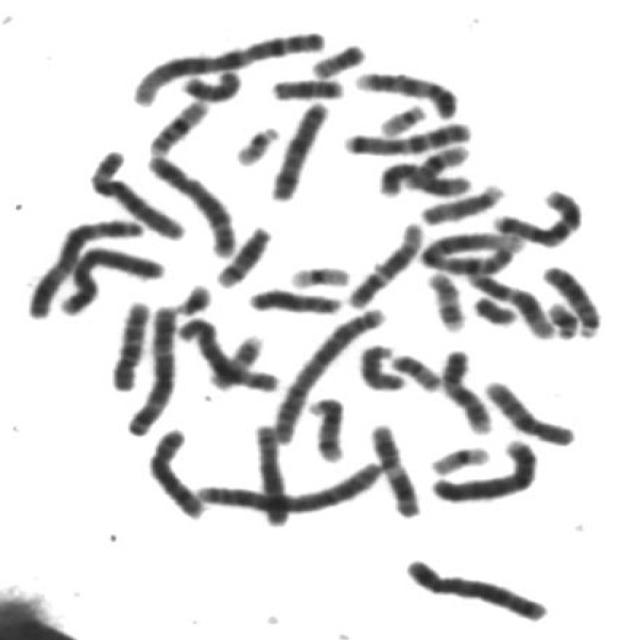A1: (123, 22, 330, 108), (414, 222, 529, 276)
A2: (265, 300, 392, 446), (188, 452, 388, 517)
A3: (21, 212, 150, 320), (120, 296, 184, 437)
B4: (53, 239, 169, 317), (424, 430, 544, 505)
B5: (398, 550, 554, 624), (140, 148, 242, 260)
C10: (476, 372, 582, 448), (103, 291, 156, 393)
C11: (363, 415, 426, 520), (373, 155, 477, 199)
C12: (341, 214, 429, 311), (459, 262, 558, 340)
C6: (82, 141, 190, 241), (171, 318, 284, 401)
C7: (487, 180, 587, 250), (336, 112, 476, 157)
C8: (141, 420, 210, 521), (248, 416, 294, 530)
C9: (349, 63, 462, 120), (434, 341, 498, 435)
D13: (536, 257, 608, 340), (242, 280, 347, 316)
D14: (210, 218, 277, 288), (302, 390, 351, 464)
D15: (414, 176, 510, 226), (353, 337, 411, 393)
E16: (143, 92, 214, 157), (404, 138, 475, 186)
E17: (206, 328, 266, 391), (421, 264, 471, 333)
E18: (175, 63, 246, 102), (266, 70, 348, 102)
F19: (424, 437, 496, 477), (283, 257, 356, 291)
F20: (384, 347, 446, 393), (306, 36, 370, 80)
G21: (169, 275, 217, 317), (542, 294, 583, 340)
G22: (229, 117, 284, 167), (371, 96, 432, 139)
X: (264, 93, 334, 203)
Y: (466, 287, 524, 327)
